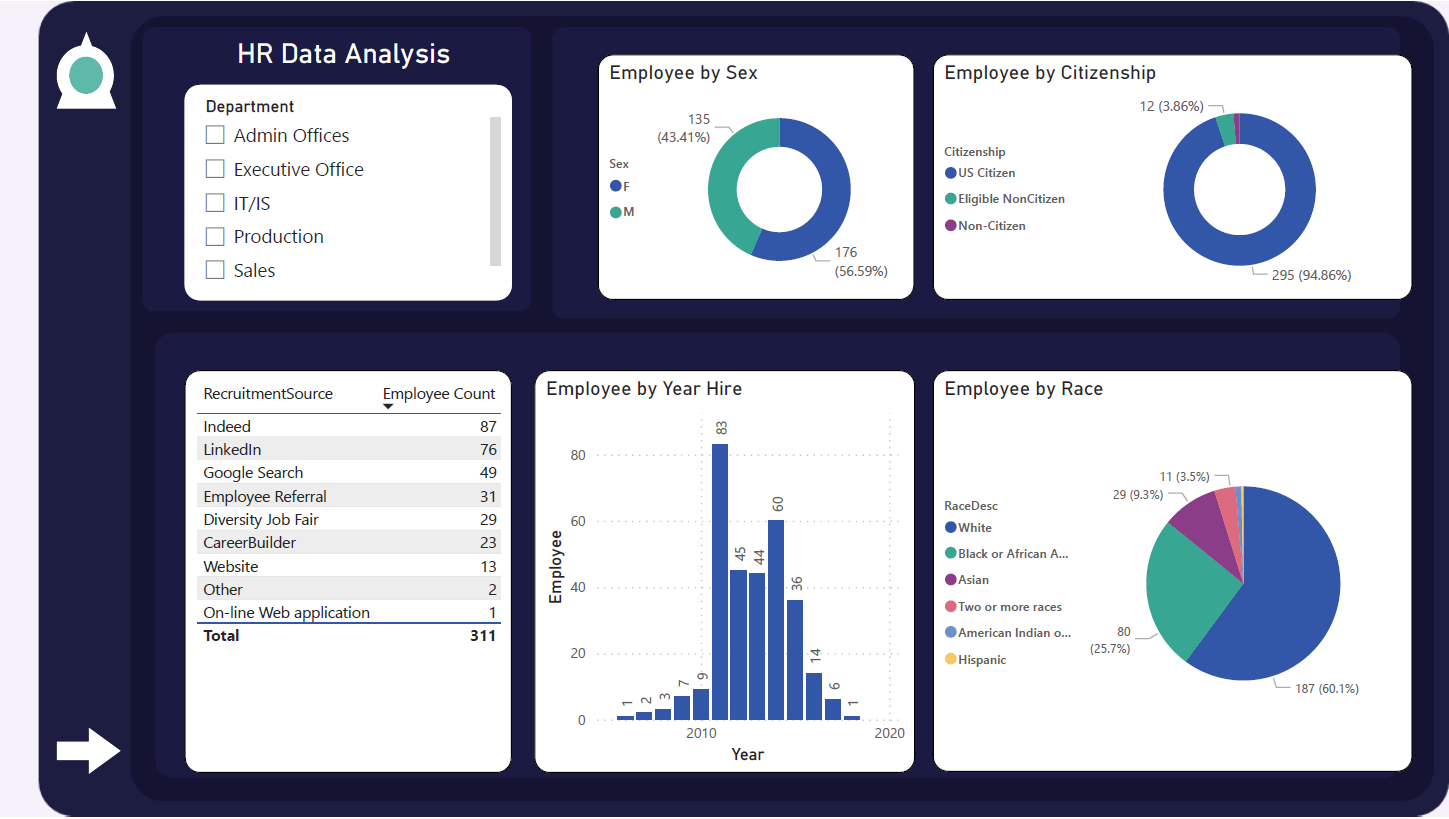

What the dashboard file says about the page in this screenshot:
{"tool":"powerbi","page":{"name":"Page 1","canvas":[1280,720],"ordinal":0},"visuals":[{"type":"donutChart","fields":{"Category":["HRDataset.Sex"],"Y":["CountNonNull(HRDataset.EmpID)"]},"box":[513.6,45.7,272,211.1],"z":0},{"type":"textbox","box":[198.3,26.2,202.2,37.9],"z":1000},{"type":"slicer","fields":{"Values":["HRDataset.Department"]},"box":[158.4,72.1,281.2,184.7],"z":2000},{"type":"donutChart","fields":{"Y":["CountNonNull(HRDataset.EmpID)"],"Category":["HRDataset.CitizenDesc"]},"box":[800.9,45.7,412.1,211.1],"z":3000},{"type":"tableEx","fields":{"Values":["HRDataset.RecruitmentSource","CountNonNull(HRDataset.EmpID)"]},"box":[158.4,316.7,281.2,346.1],"z":4000},{"type":"clusteredColumnChart","title":"EmpIoyee by Year Hire","fields":{"Y":["CountNonNull(HRDataset.EmpID)"],"Category":["HRDataset.DateofHire.Variation.Date Hierarchy.Year"]},"box":[458.8,316.7,326.9,346.1],"z":5000},{"type":"pieChart","title":"Employee by Race","fields":{"Y":["CountNonNull(HRDataset.EmpID)"],"Category":["HRDataset.RaceDesc"]},"box":[800.5,317,412.4,345.4],"z":6000},{"type":"shape","box":[48.8,623.7,54.9,39.6],"z":7000},{"type":"shape","box":[49,26,51,66],"z":7001},{"type":"shape","box":[49,38,49,52],"z":7002},{"type":"shape","box":[59,48,29,32],"z":7003}]}

Visuals, with their boxes in screenshot pixels (x1, y1, x2, y2), scaled from the page's 1280x720 canvas onto the 1449x819 screenshot:
donutChart - HRDataset.Sex x CountNonNull(HRDataset.EmpID): 581 52 889 292
textbox: 224 30 453 73
slicer - HRDataset.Department: 179 82 498 292
donutChart - CountNonNull(HRDataset.EmpID) x HRDataset.CitizenDesc: 907 52 1373 292
tableEx - HRDataset.RecruitmentSource x CountNonNull(HRDataset.EmpID): 179 360 498 754
"EmpIoyee by Year Hire" clusteredColumnChart: 519 360 889 754
"Employee by Race" pieChart: 906 361 1373 753
shape: 55 709 117 755
shape: 55 30 113 105
shape: 55 43 111 102
shape: 67 55 100 91
